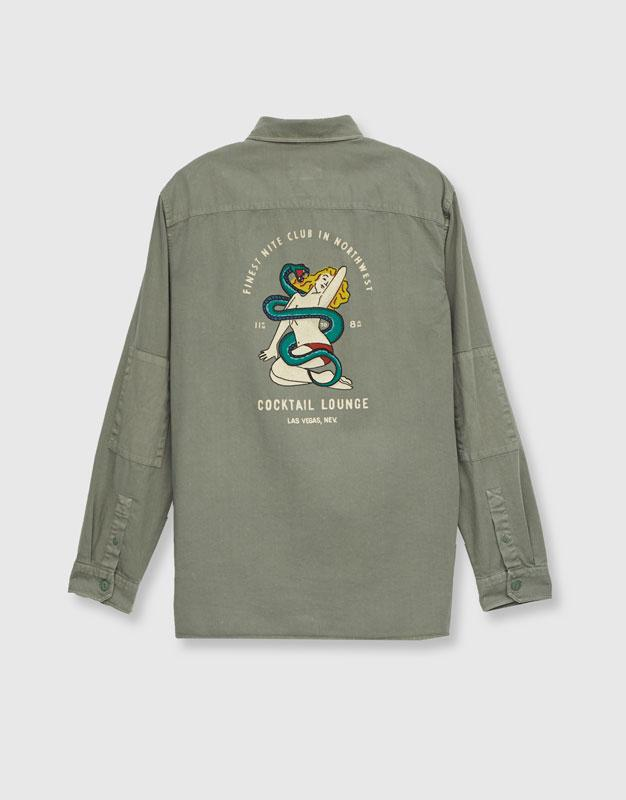teeshirt: (58, 108, 558, 653)
